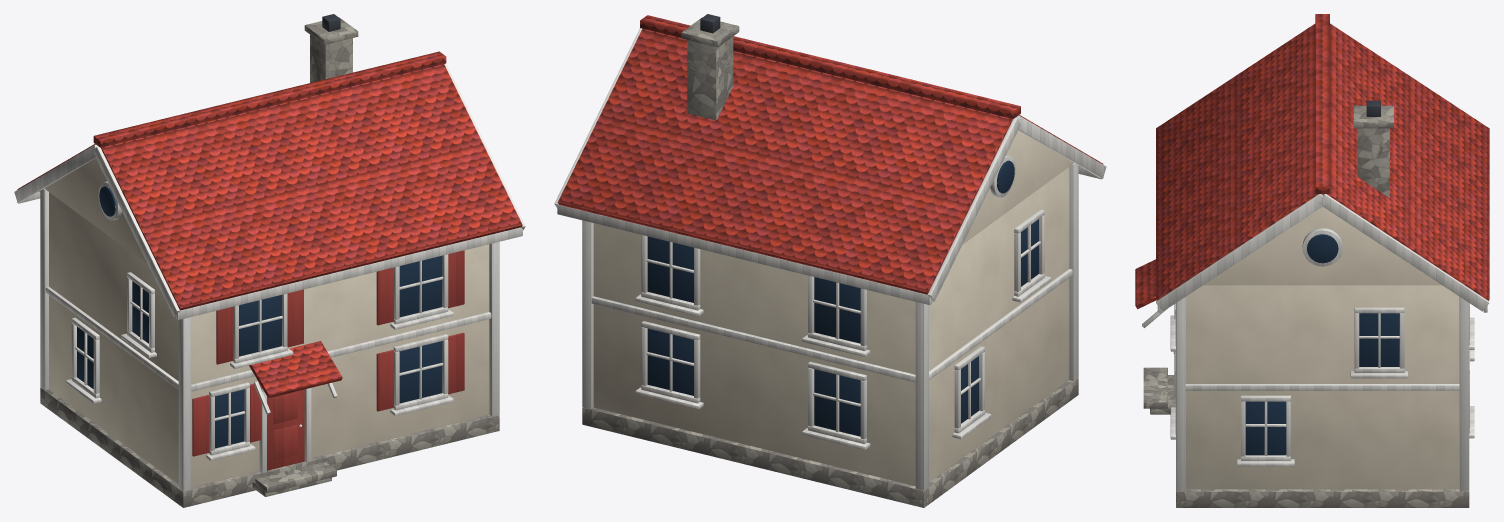
The model's file is house_player.glb.
The picture shows the model from 3 angles, left to right: view 1: azimuth 30°, elevation 25°; view 2: azimuth 150°, elevation 25°; view 3: azimuth 270°, elevation 25°; orthographic projection. The views are drawn at different scales.
Visible parts, largest first — view 1: house_player; view 2: house_player; view 3: house_player.
Part boxes in pixels (left/top/right/bottom): house_player: left=14, top=14, right=525, bottom=507; house_player: left=554, top=14, right=1106, bottom=507; house_player: left=1135, top=14, right=1489, bottom=507.
Size of the model in its own units: 10.18 by 10.04 by 8.74.
8 materials, 8 textured.
